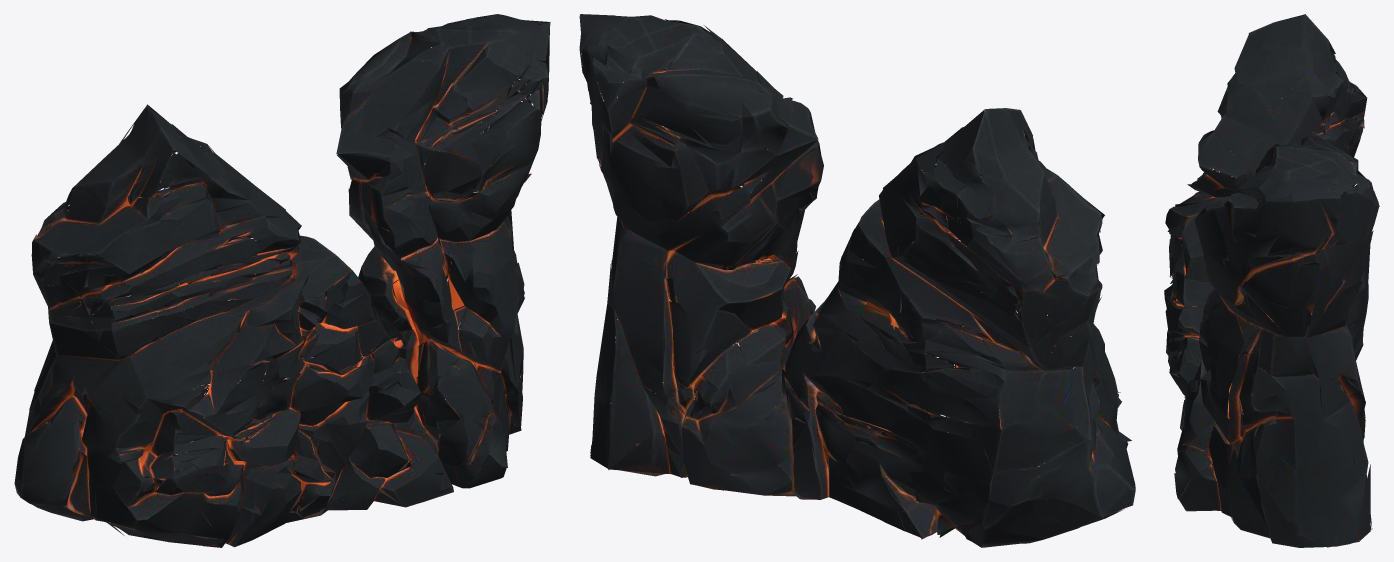
The model's file is fault_plate.glb.
3 renders of one model, left to right at view 1: azimuth 30°, elevation 25°; view 2: azimuth 150°, elevation 25°; view 3: azimuth 270°, elevation 25°, orthographic. The views are drawn at different scales.
Visible parts, largest first — view 1: Mesh_0; view 2: Mesh_0; view 3: Mesh_0.
Boxes of the visible parts, box(x1,y1,x2,y2) form: Mesh_0: box(14, 14, 550, 547); Mesh_0: box(579, 14, 1135, 547); Mesh_0: box(1164, 14, 1379, 547).
Size of the model in its own units: 1.38 by 1 by 0.5262.
Materials: 1 (1 with a texture image).
